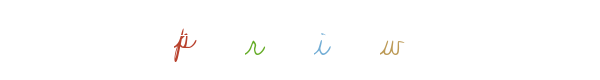I: (259, 0, 339, 80)
P: (141, 0, 221, 80)
R: (243, 0, 323, 80)
W: (260, 0, 340, 80)
